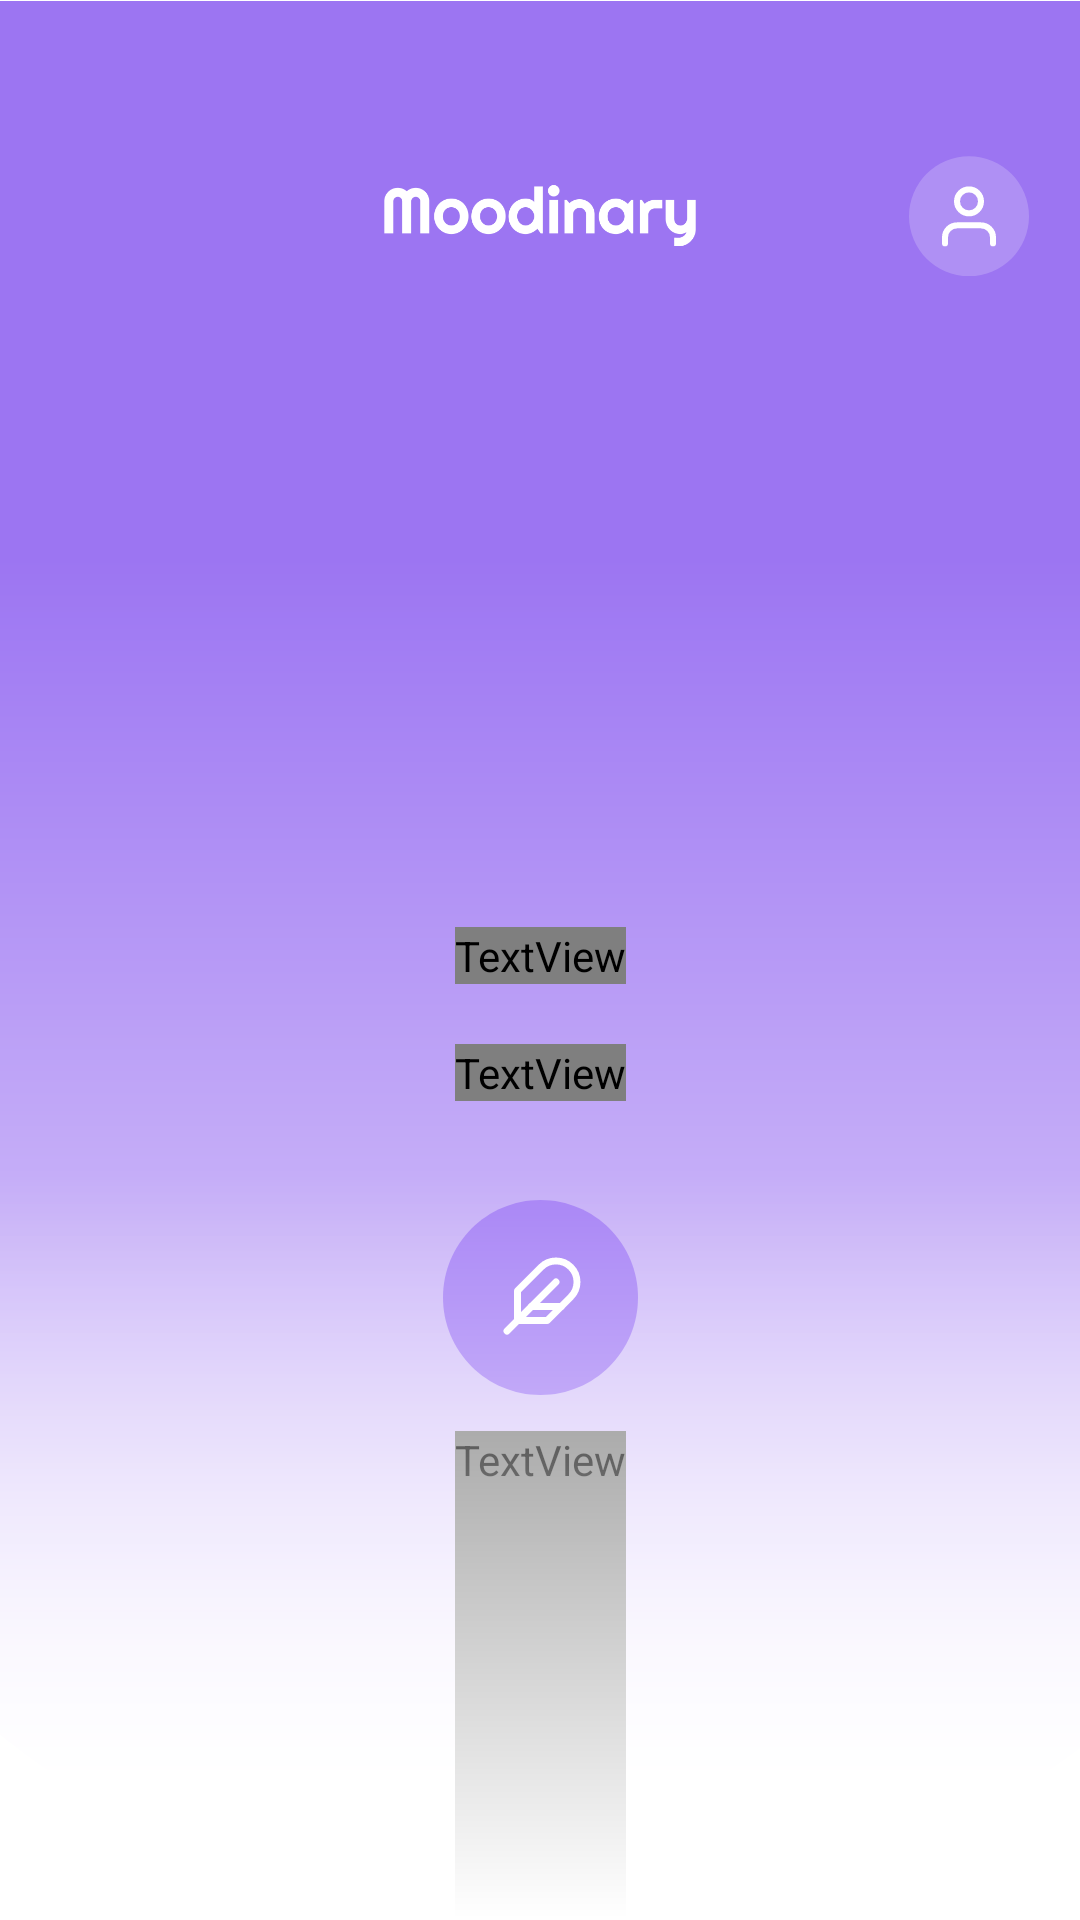

Screen size 1080×1920. Icon name, then its center in pixels as (x=x, y=y):
마이페이지 이동 버튼: (x=969, y=216)
일기 작성 버튼: (x=540, y=1297)
